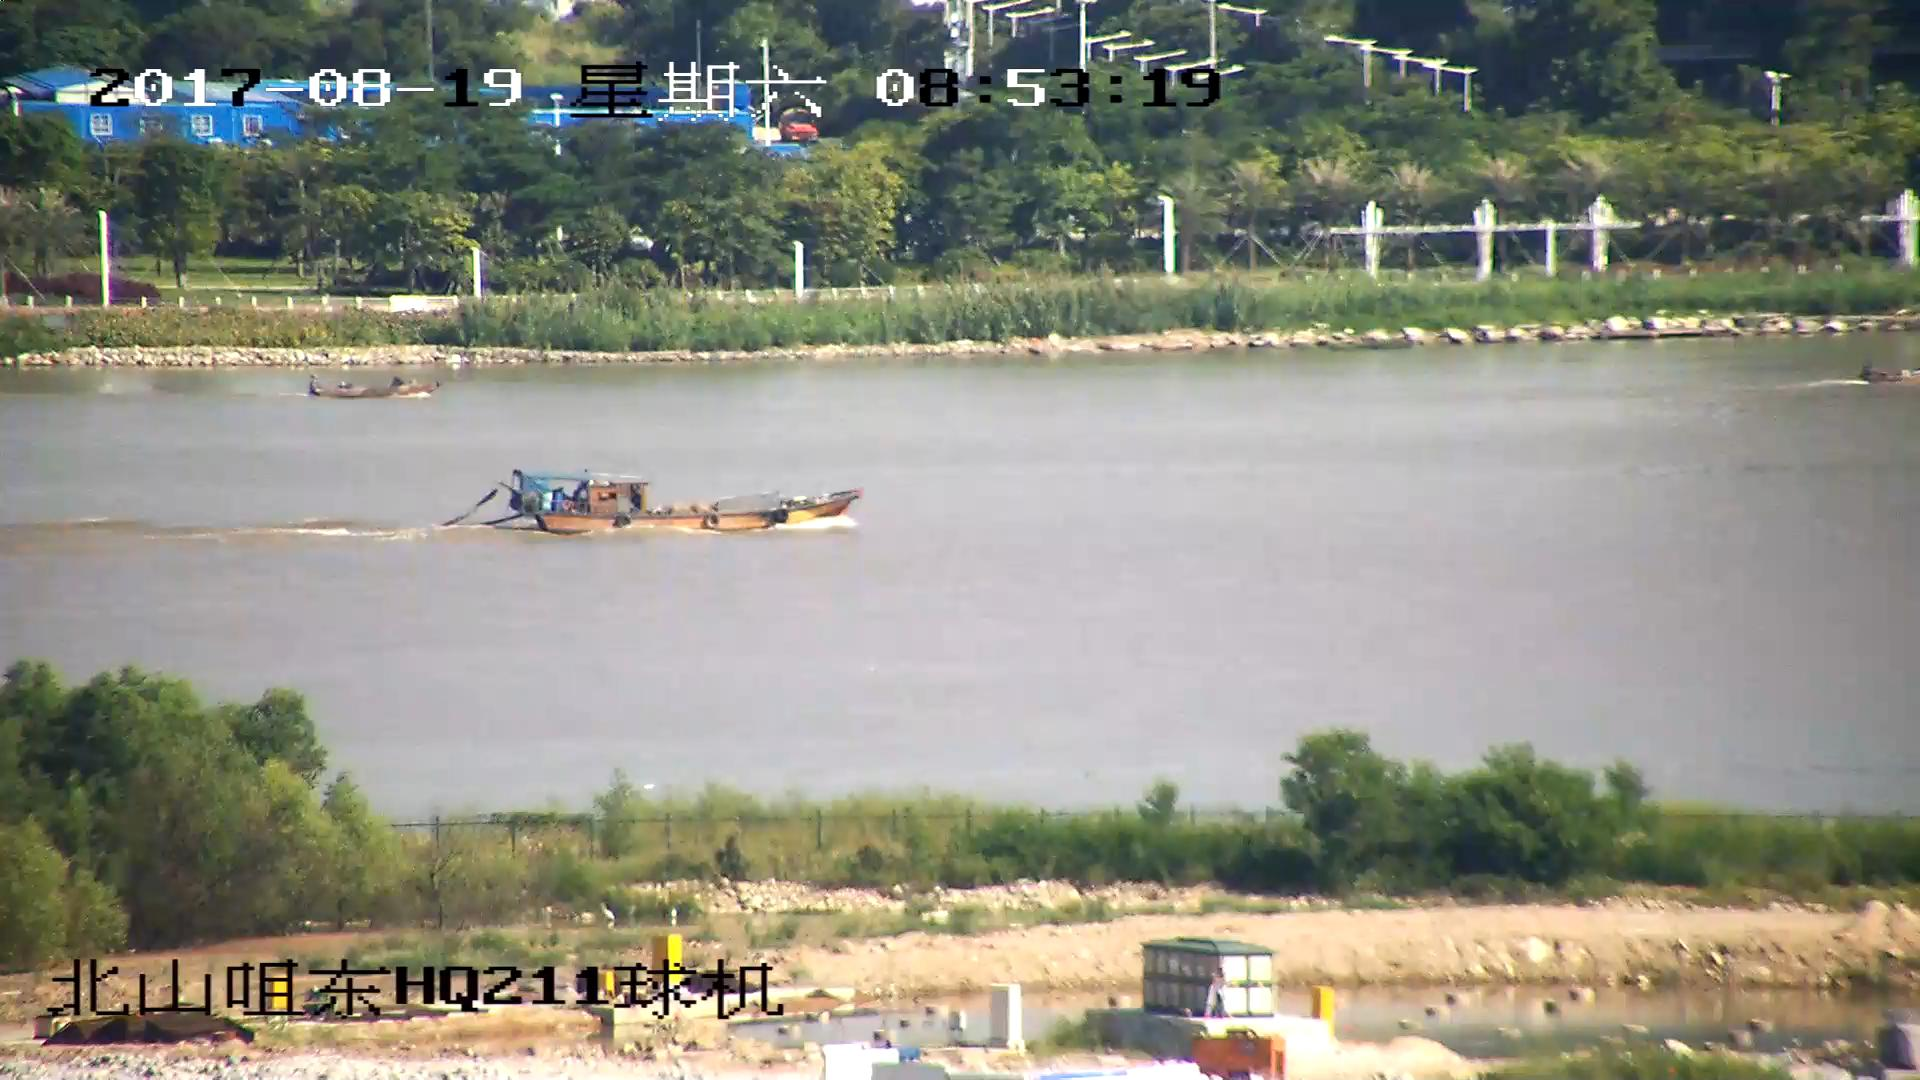fishing boat: (502, 468, 863, 536), (307, 370, 445, 398), (1857, 358, 1920, 387)
